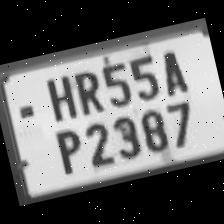2: (76, 115, 116, 172)
3: (104, 108, 142, 164)
5: (122, 49, 162, 101), (96, 56, 135, 109)
7: (160, 95, 200, 152)
8: (133, 102, 171, 158)
A: (152, 44, 191, 98)
H: (36, 70, 78, 124)
P: (46, 123, 86, 177)
R: (67, 64, 106, 118)
